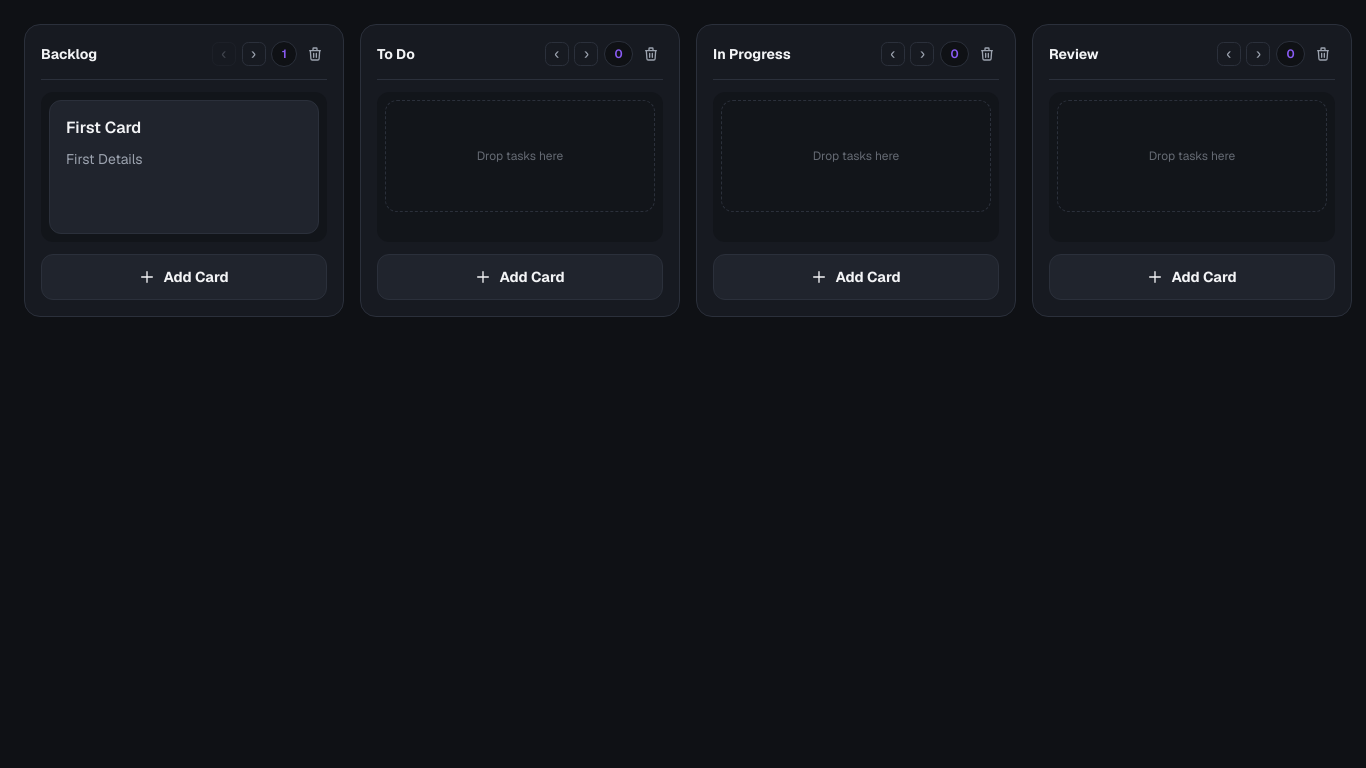
Test case: Board component › prevents submitting a card without a title
Step 1. Click the button with test id "add-card-button-col-1" → (184, 277), box x1=41 y1=254 x2=327 y2=300
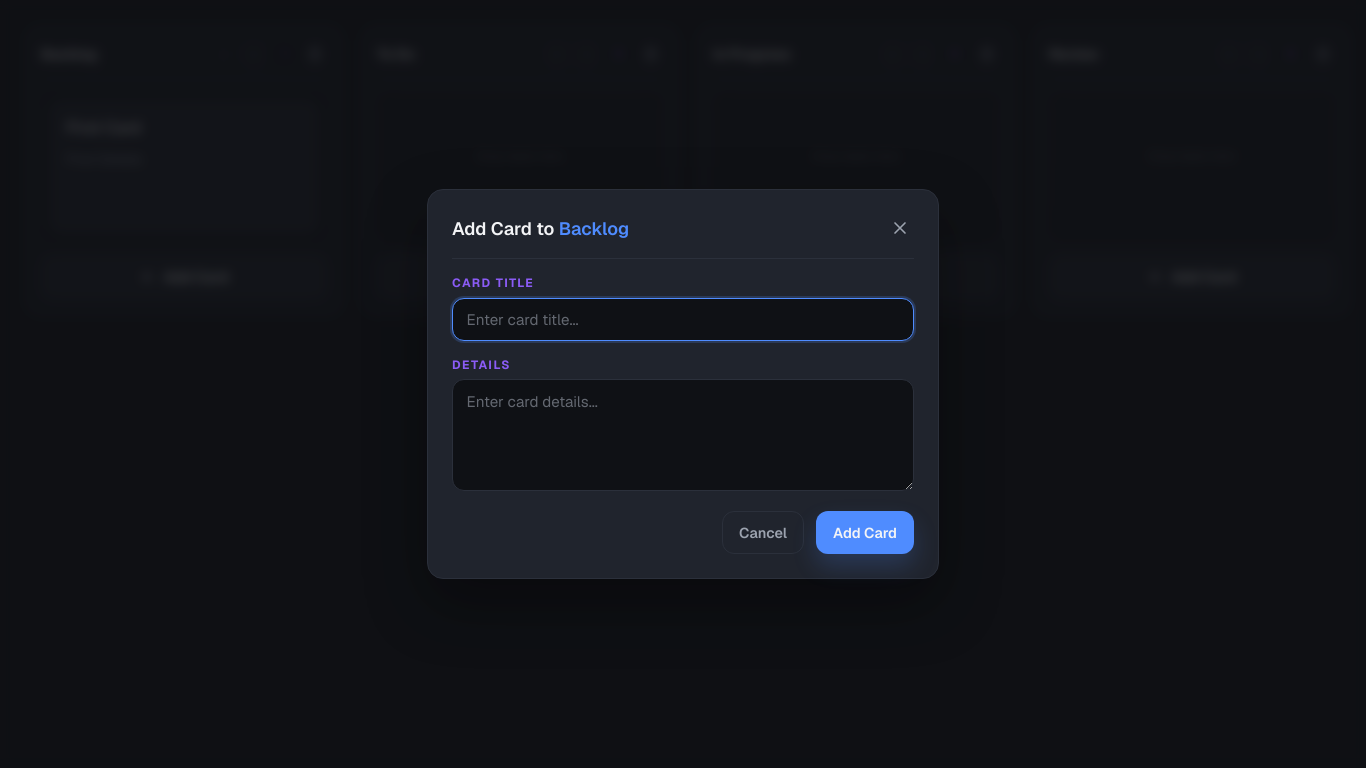
Step 2. Click the button with test id "submit-card-button" → (865, 533), box x1=816 y1=511 x2=914 y2=554
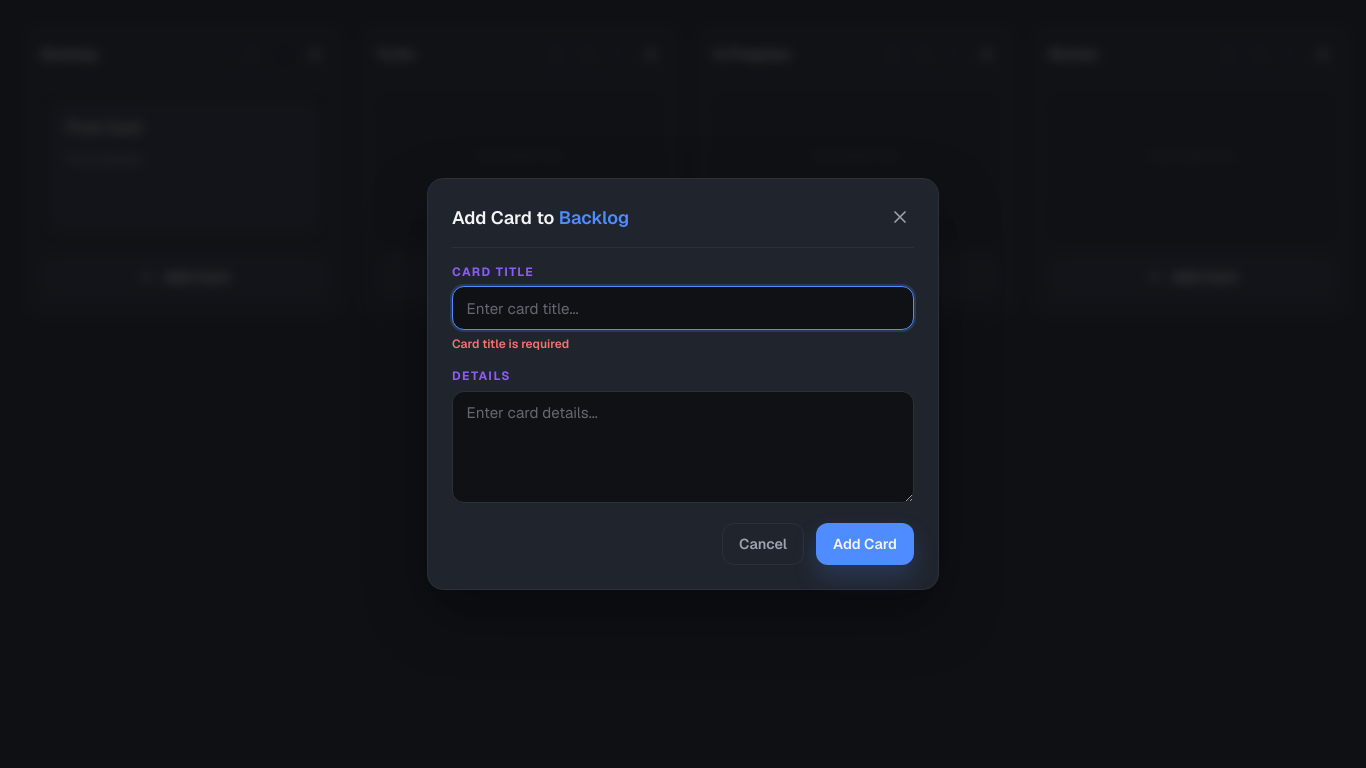
Expected: the element with test id "add-card-modal" is shown
Expected: the text "Card title is required" is shown, x1=452 y1=336 x2=569 y2=352
